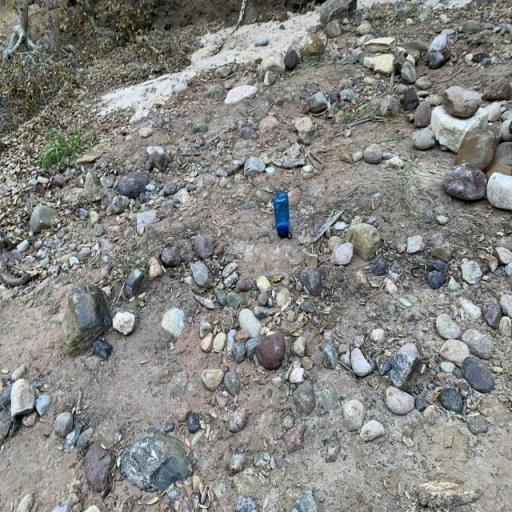bottle: (273, 191, 292, 239)
